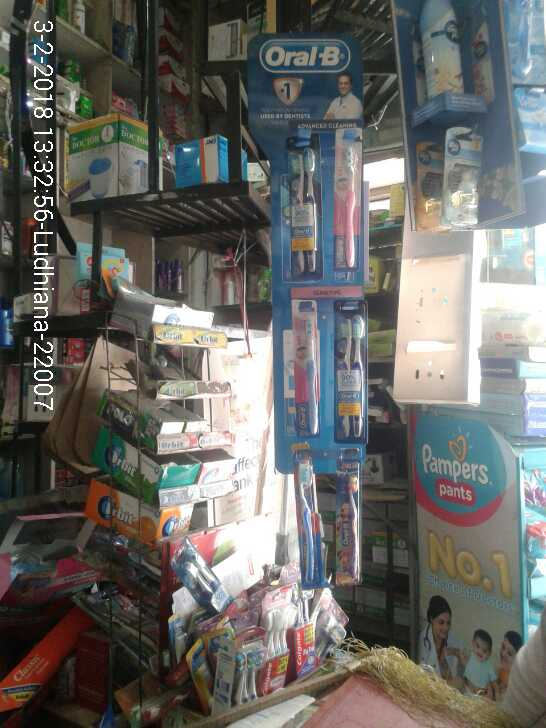oralb: (285, 143, 320, 276), (335, 312, 368, 436), (291, 457, 321, 591), (330, 144, 360, 275), (332, 467, 366, 581), (293, 313, 324, 436)
